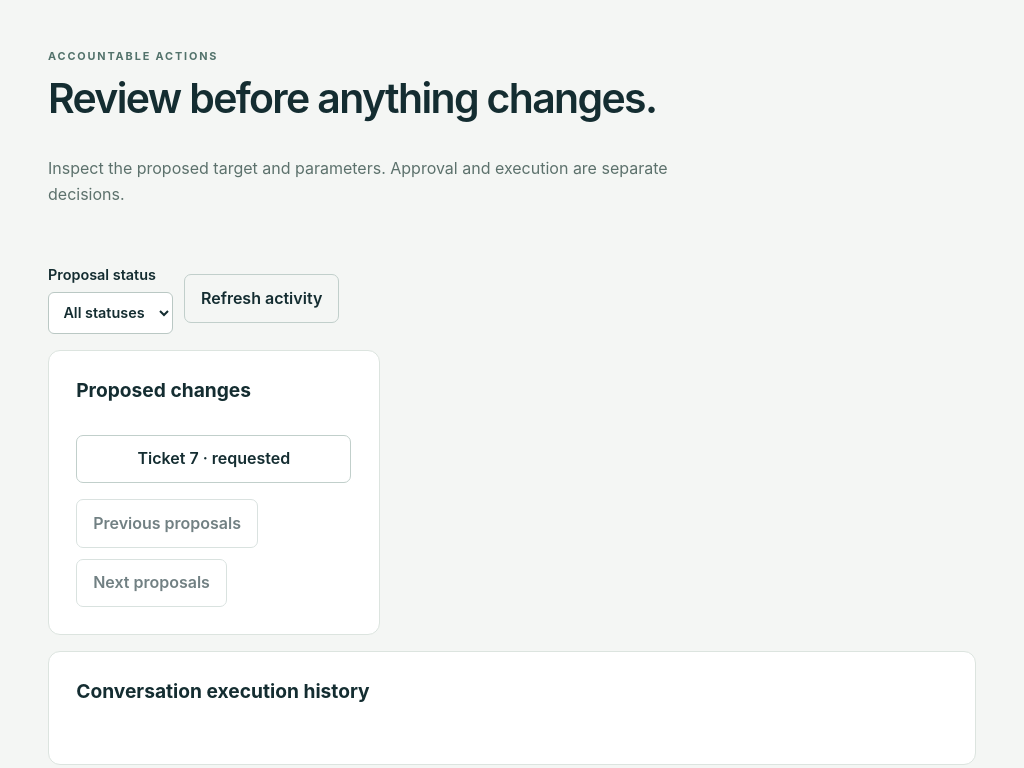
Test case: expired proposals cannot be approved
Click the button "Ticket 7 · requested" at x=214, y=459, box [76,435,352,483]
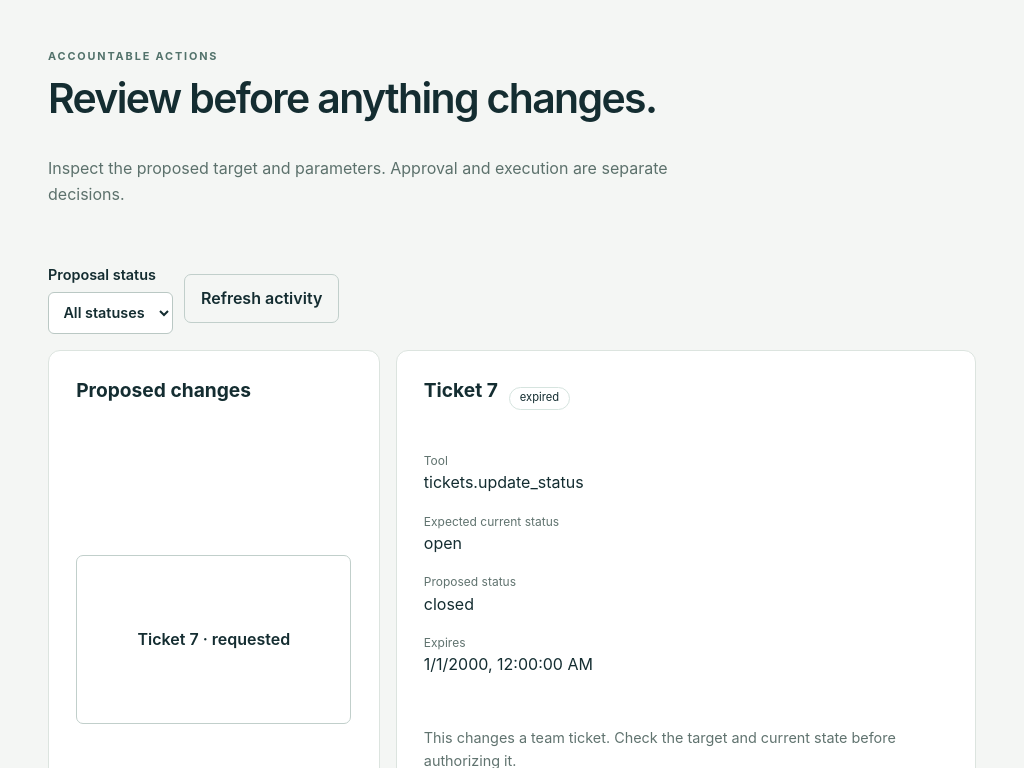
Check: the text "expired" is shown, box [509,387,570,410]
